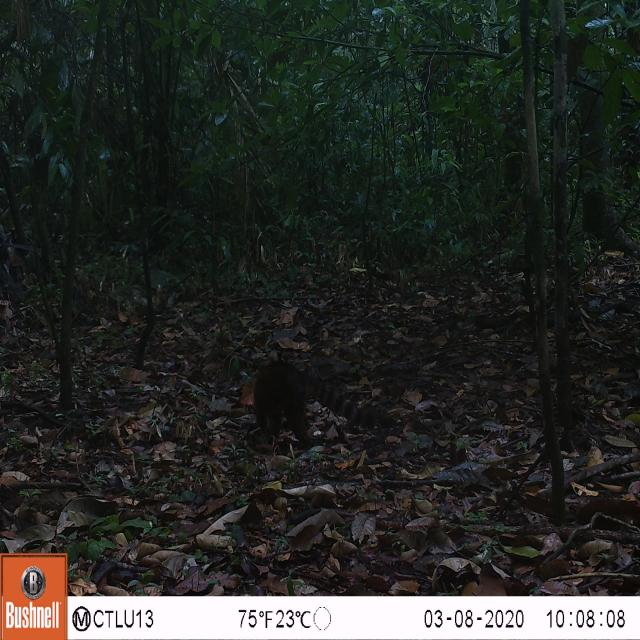South American Coati: (227, 347, 396, 458)
